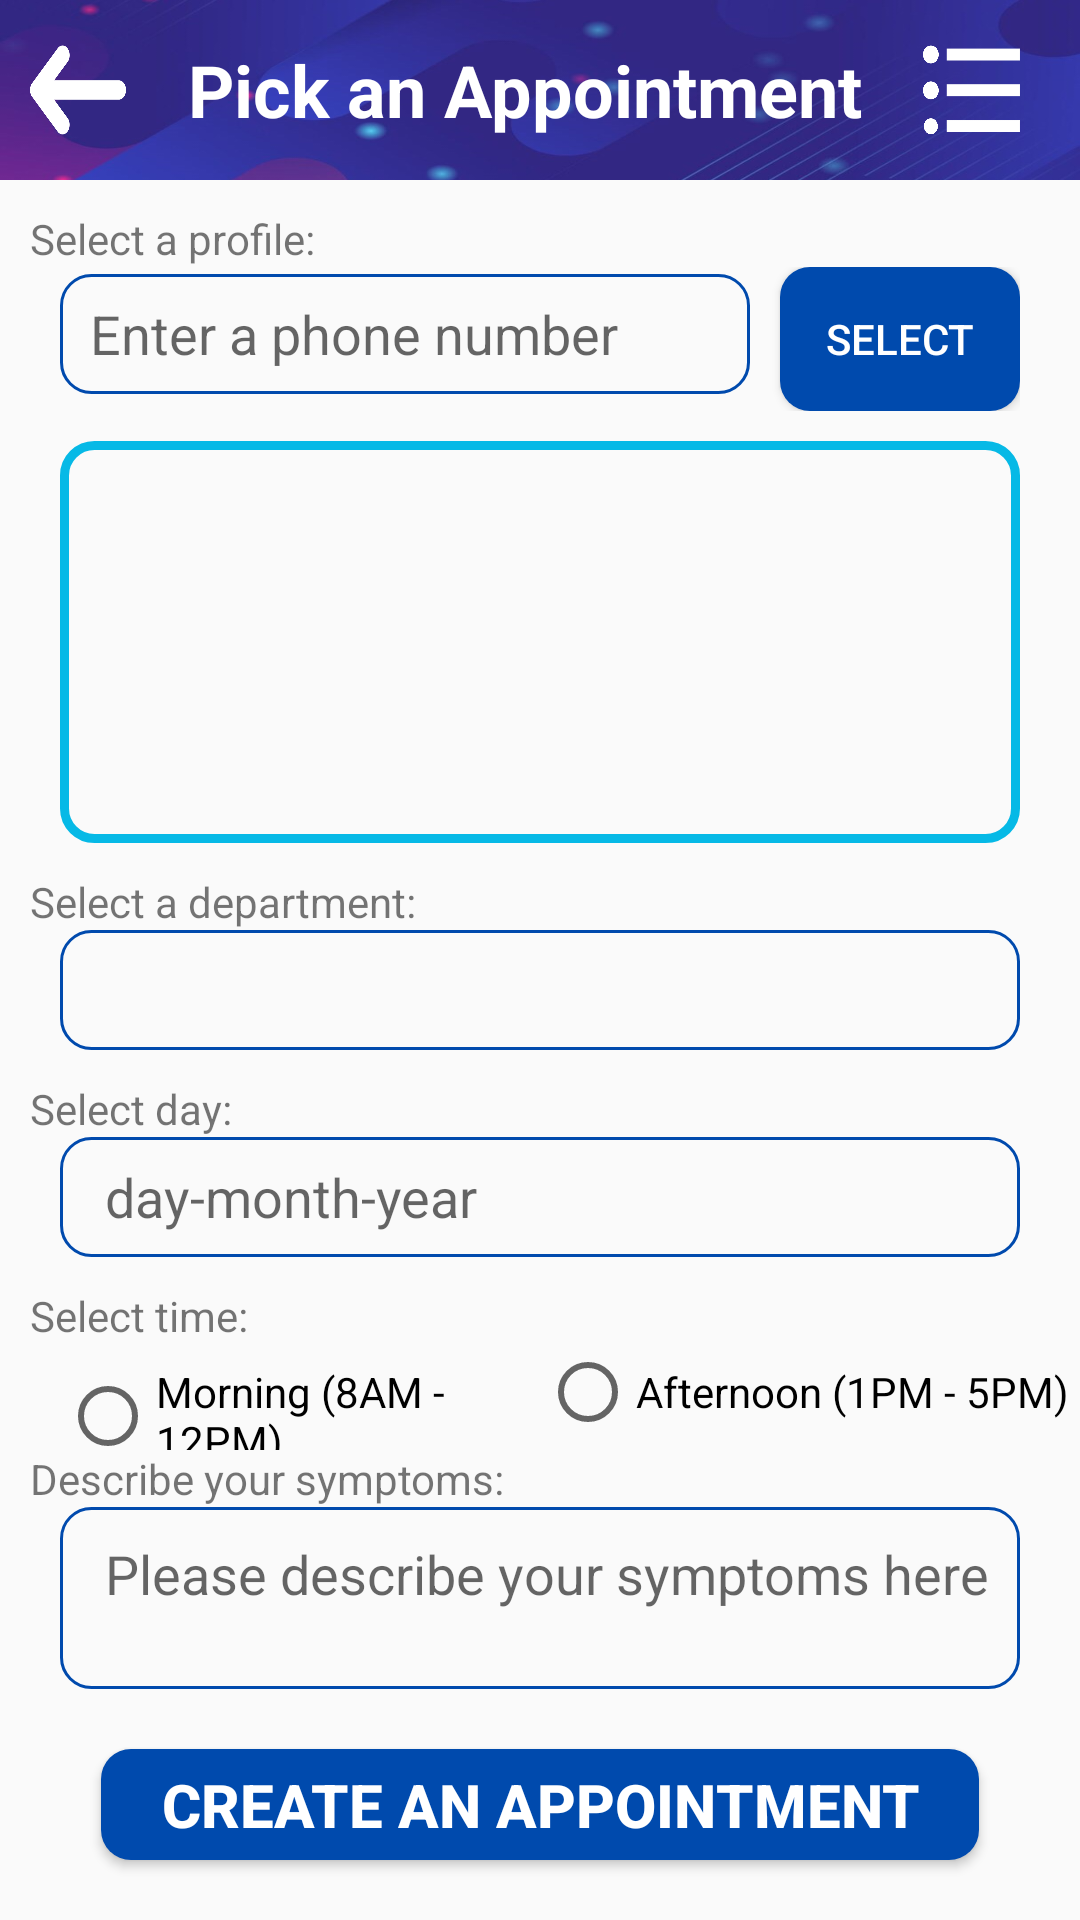

Locate icon controls on the screen. Image size 1080w x 1920h, boxes as (x1, y1, x2, y2).
back: (30, 45, 126, 135)
list appointment: (923, 45, 1020, 134)
